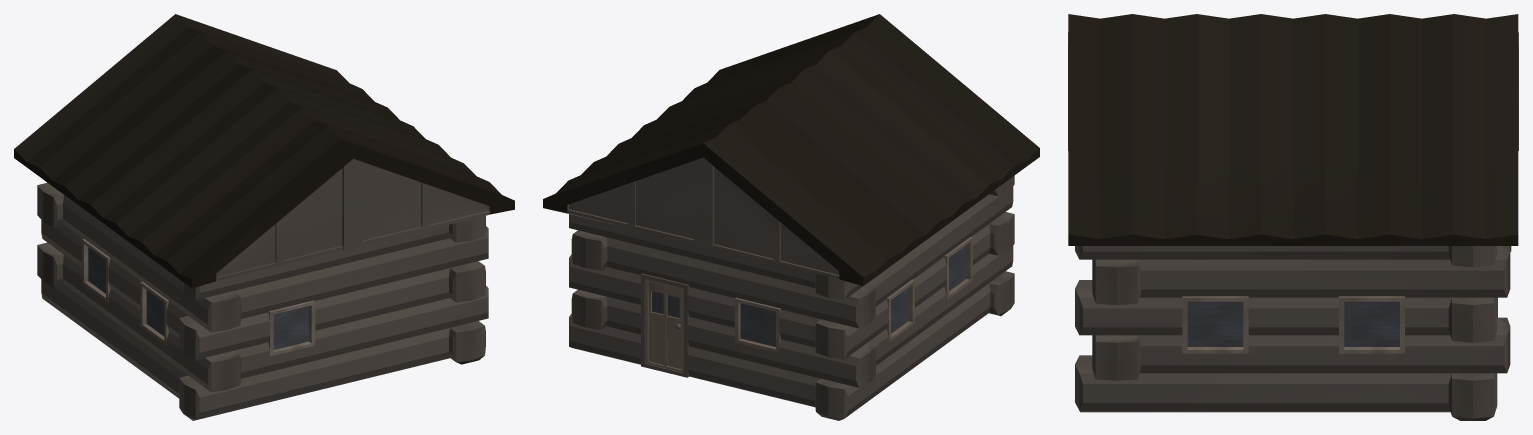
Rendered from LogCabin.fbx.
3 renders of one model, left to right at view 1: azimuth 30°, elevation 25°; view 2: azimuth 150°, elevation 25°; view 3: azimuth 270°, elevation 25°, orthographic. The views are drawn at different scales.
Parts seen in each view (by area): view 1: Cube.005, Cube.002, Cube.001, Cube.003, Cube.010, Cube, Cube.012, Cube.011; view 2: Cube.005, Cube, Cube.001, Cube.008, Cube.003, Cube.002, Cube.007, Cube.011, Cube.012, Cube.006; view 3: Cube.005, Cube.003, Cube, Cube.002, Cube.014, Cube.013.
Boxes of the visible parts, <box> form: Cube.005: <box>14,14,514,288</box>; Cube.002: <box>179,224,488,420</box>; Cube.001: <box>41,180,241,398</box>; Cube.003: <box>449,215,485,364</box>; Cube.010: <box>268,300,315,356</box>; Cube: <box>37,182,63,286</box>; Cube.012: <box>140,281,168,345</box>; Cube.011: <box>82,239,110,302</box>; Cube.005: <box>543,14,1039,285</box>; Cube: <box>569,214,875,407</box>; Cube.001: <box>815,186,1013,420</box>; Cube.008: <box>645,279,683,372</box>; Cube.003: <box>571,230,607,329</box>; Cube.002: <box>989,175,1014,315</box>; Cube.007: <box>734,297,780,353</box>; Cube.011: <box>886,279,914,342</box>; Cube.012: <box>944,237,972,299</box>; Cube.006: <box>641,273,689,377</box>; Cube.005: <box>1068,14,1518,245</box>; Cube.003: <box>1075,246,1510,412</box>; Cube: <box>1448,246,1497,420</box>; Cube.002: <box>1092,259,1140,380</box>; Cube.014: <box>1182,296,1248,353</box>; Cube.013: <box>1339,296,1404,353</box>.
Bounding box in the file's own units: 1631 × 1214 × 1561.
5 materials, 5 textured.
